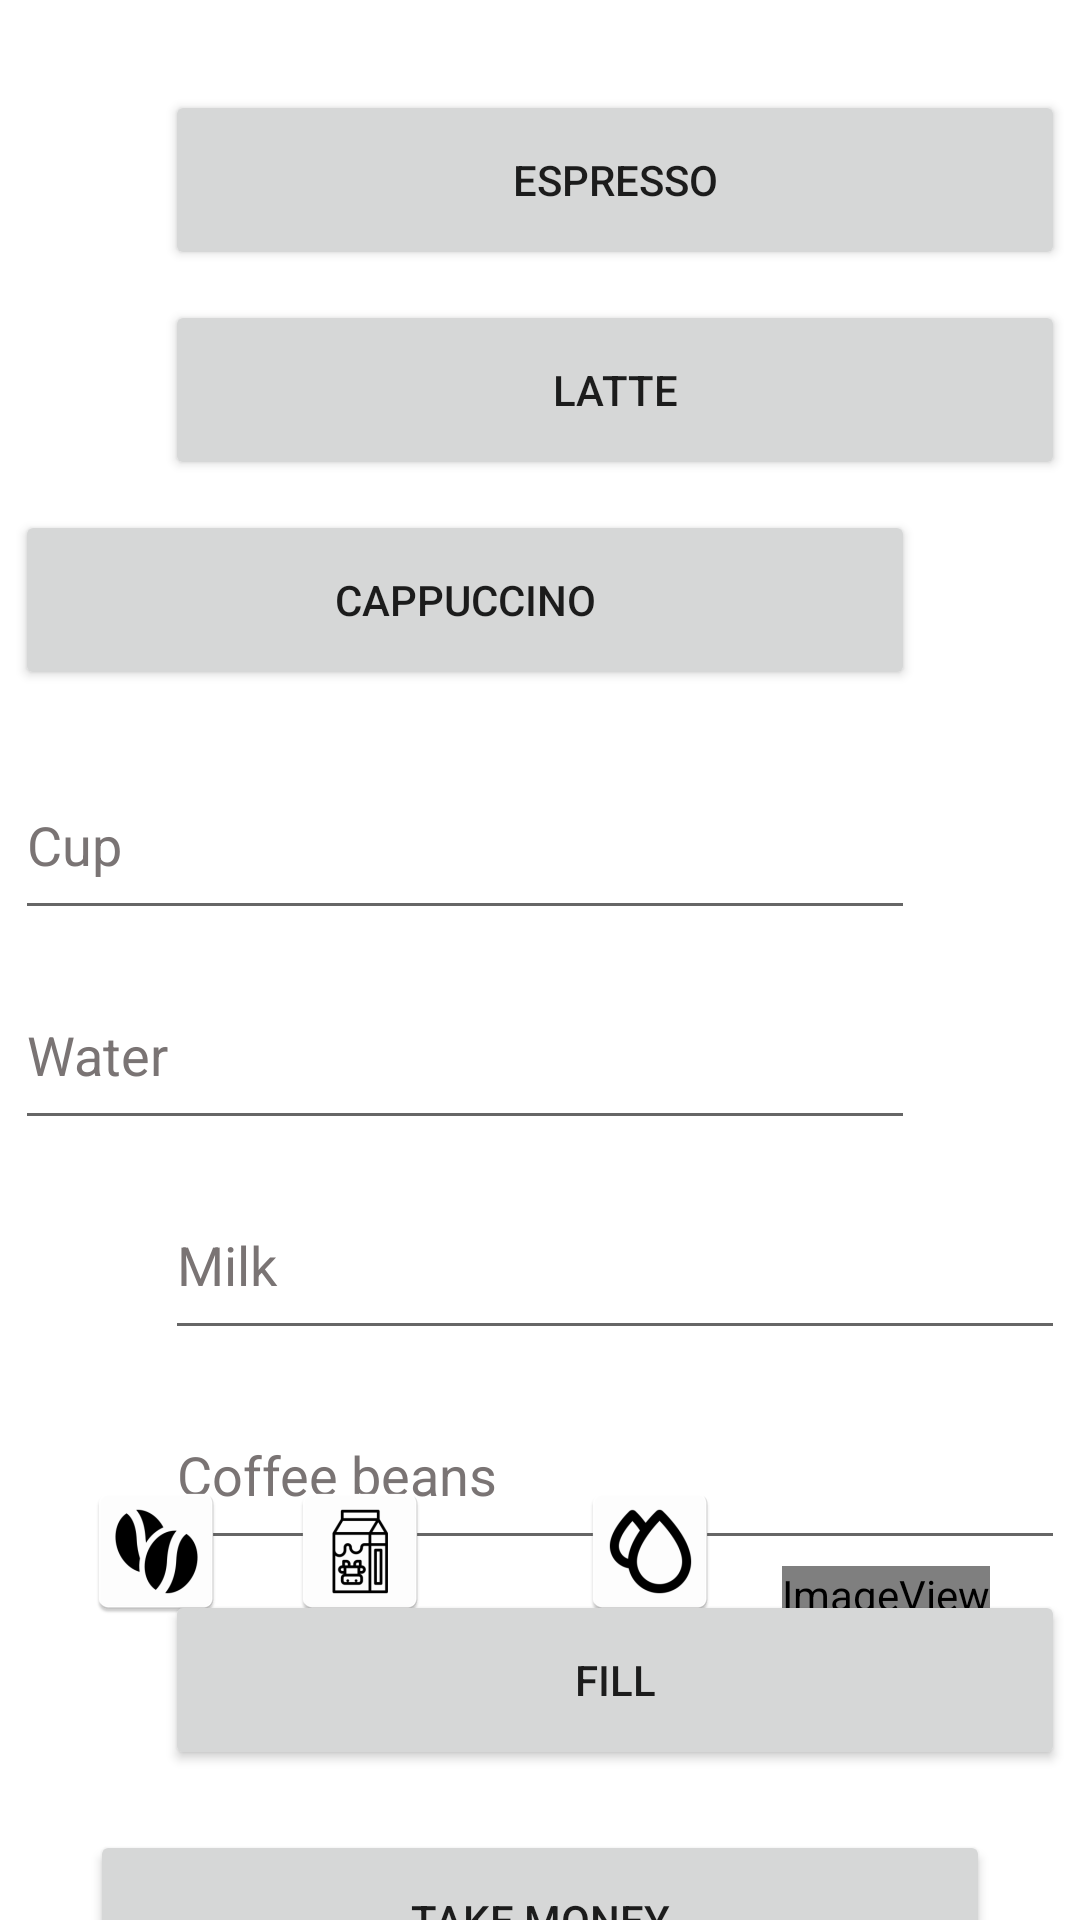

Where to tap for icons on this 1080px x 1920px app screen, as (x,y):
water: (650,1551)
